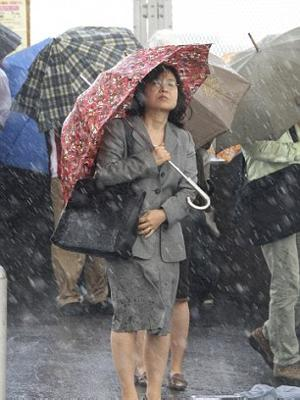person: (95, 64, 199, 399)
